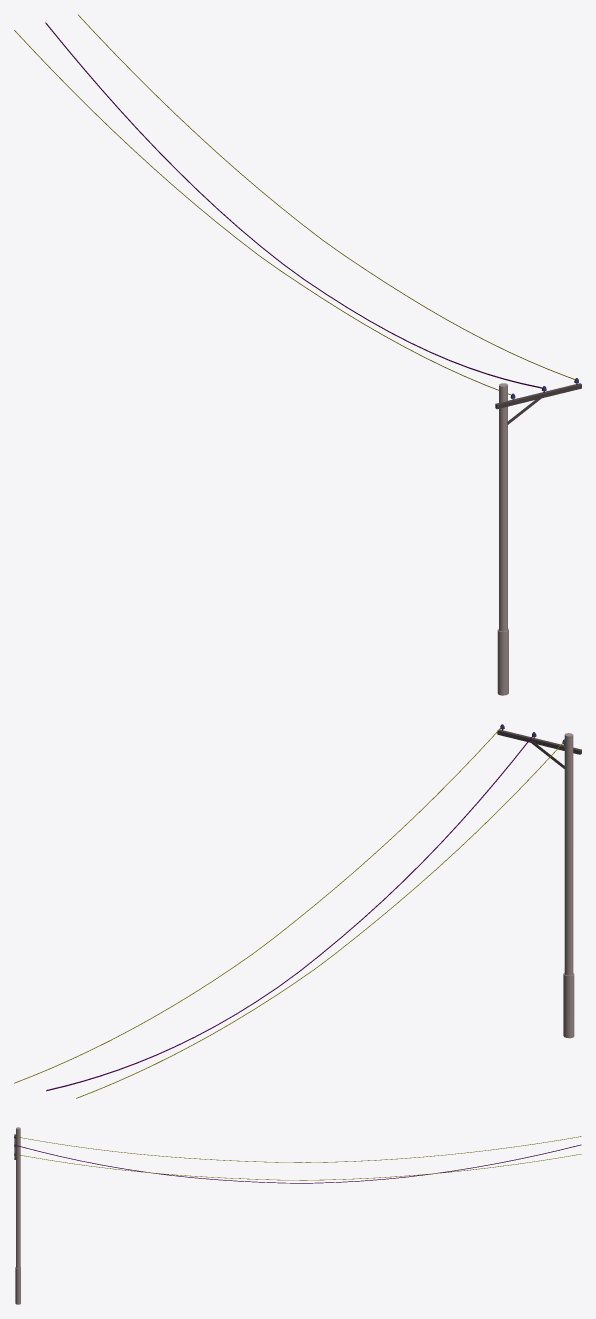
File: Poste 0_UV.fbx
The picture shows the model from 3 angles, top to bottom: view 1: azimuth 30°, elevation 25°; view 2: azimuth 150°, elevation 25°; view 3: azimuth 270°, elevation 25°; orthographic projection. The views are drawn at different scales.
Visible parts, largest first — view 1: Cylinder024, Cylinder027; view 2: Cylinder024, Cylinder027, Cylinder038, Cylinder026; view 3: Cylinder024, Cylinder027, Cylinder026, Cylinder038.
Part boxes in pixels (x1,y1,x2,y2): Cylinder024: [497, 383, 508, 695]; Cylinder027: [45, 22, 541, 388]; Cylinder024: [563, 733, 574, 1038]; Cylinder027: [46, 735, 533, 1091]; Cylinder038: [14, 727, 501, 1083]; Cylinder026: [76, 742, 563, 1098]; Cylinder024: [15, 1127, 20, 1304]; Cylinder027: [16, 1144, 581, 1183]; Cylinder026: [16, 1136, 581, 1162]; Cylinder038: [16, 1154, 581, 1180].
Bounding box in the file's own units: 53.58 × 186 × 547.
